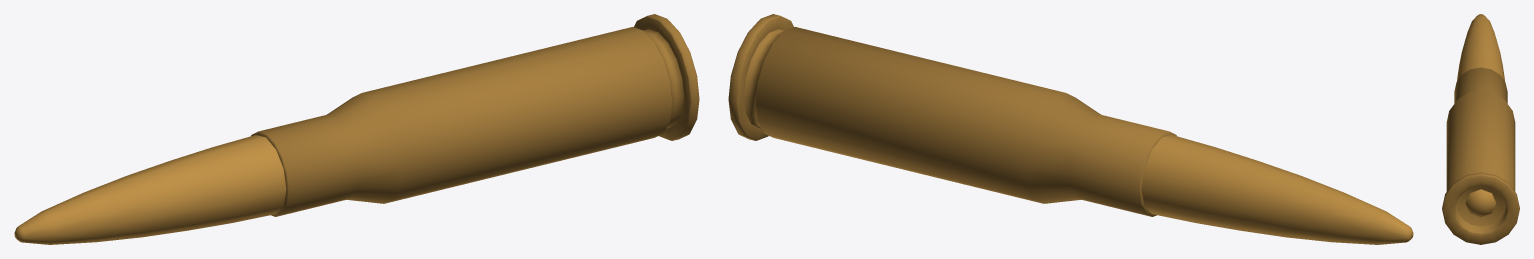
File: Bullet.fbx
The picture shows the model from 3 angles, left to right: view 1: azimuth 30°, elevation 25°; view 2: azimuth 150°, elevation 25°; view 3: azimuth 270°, elevation 25°; orthographic projection. The views are drawn at different scales.
Parts seen in each view (by area): view 1: Bullet_Q.002; view 2: Bullet_Q.002; view 3: Bullet_Q.002.
Boxes of the visible parts, left/top/right/bottom form: Bullet_Q.002: left=14, top=14, right=699, bottom=244; Bullet_Q.002: left=728, top=14, right=1413, bottom=244; Bullet_Q.002: left=1442, top=14, right=1519, bottom=244.
Size of the model in its own units: 0.1129 by 0.0192 by 0.0192.
